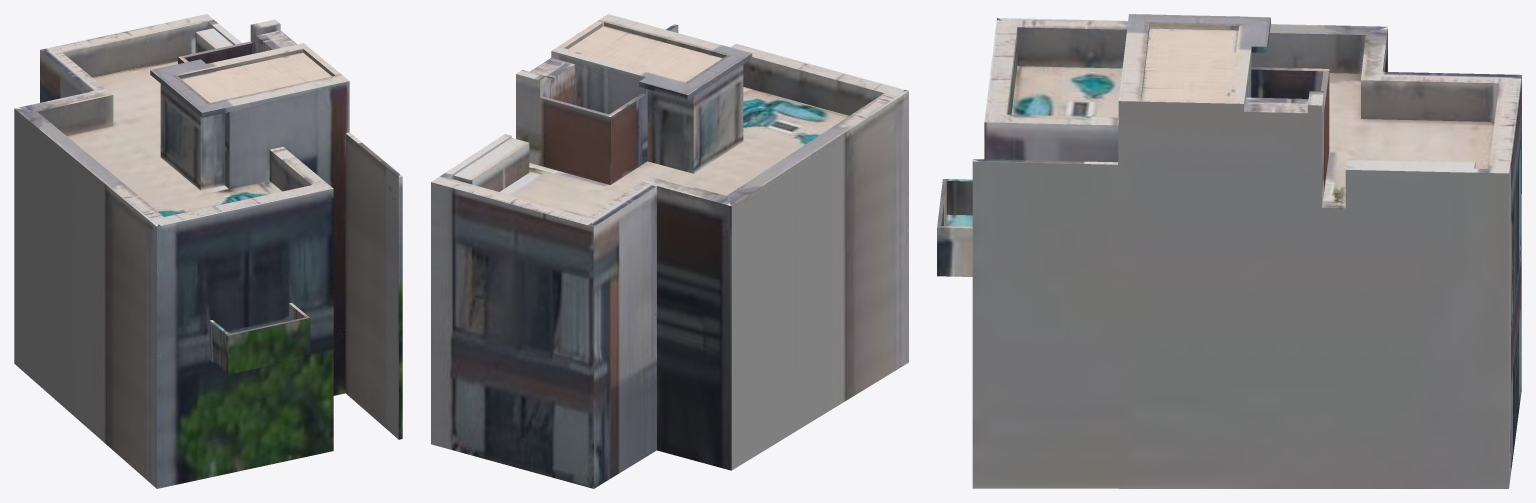
3 renders of one model, left to right at view 1: azimuth 30°, elevation 25°; view 2: azimuth 150°, elevation 25°; view 3: azimuth 270°, elevation 25°, orthographic. The views are drawn at different scales.
Visible parts, largest first — view 1: B285034030801062A0; view 2: B285034030801062A0; view 3: B285034030801062A0.
Part boxes in pixels (x1=…): B285034030801062A0: x1=14, y1=14, x2=402, y2=488; B285034030801062A0: x1=431, y1=14, x2=908, y2=488; B285034030801062A0: x1=937, y1=14, x2=1521, y2=488.
Size of the model in its own units: 9.5 by 11.13 by 15.09.
1 material, 1 textured.
